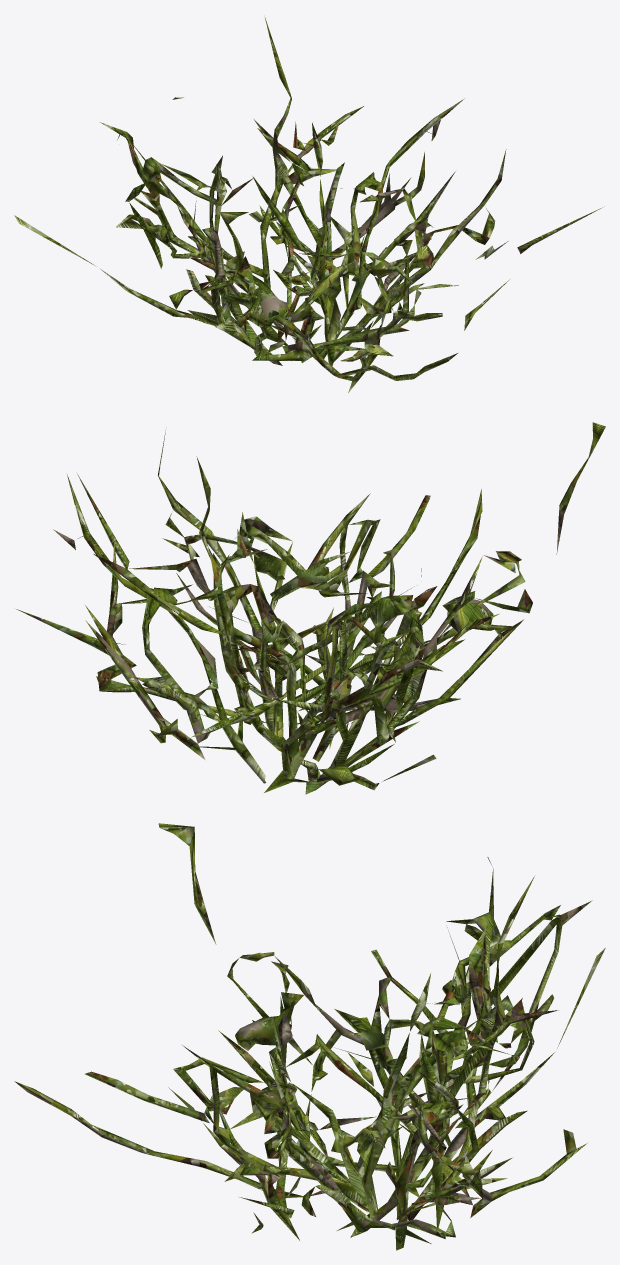
The model's file is WispyWeedBush_V1.fbx.
The picture shows the model from 3 angles, top to bottom: view 1: azimuth 30°, elevation 25°; view 2: azimuth 150°, elevation 25°; view 3: azimuth 270°, elevation 25°; orthographic projection. The views are drawn at different scales.
Parts seen in each view (by area): view 1: mesh_node; view 2: mesh_node; view 3: mesh_node.
Boxes of the visible parts, <box> form: mesh_node: <box>14,17,604,392</box>; mesh_node: <box>16,422,605,794</box>; mesh_node: <box>14,823,605,1250</box>.
Size of the model in its own units: 1.63 by 1.09 by 1.55.
